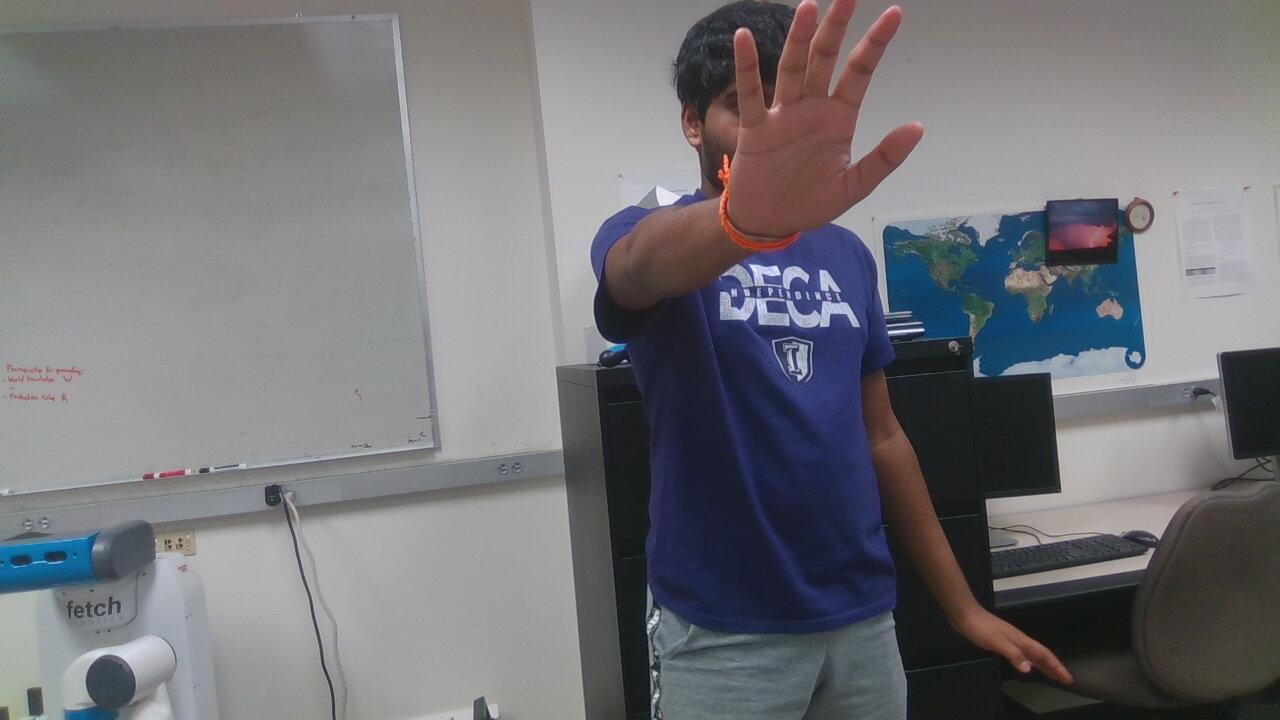hands: (718, 0, 943, 263), (958, 566, 1077, 705)
